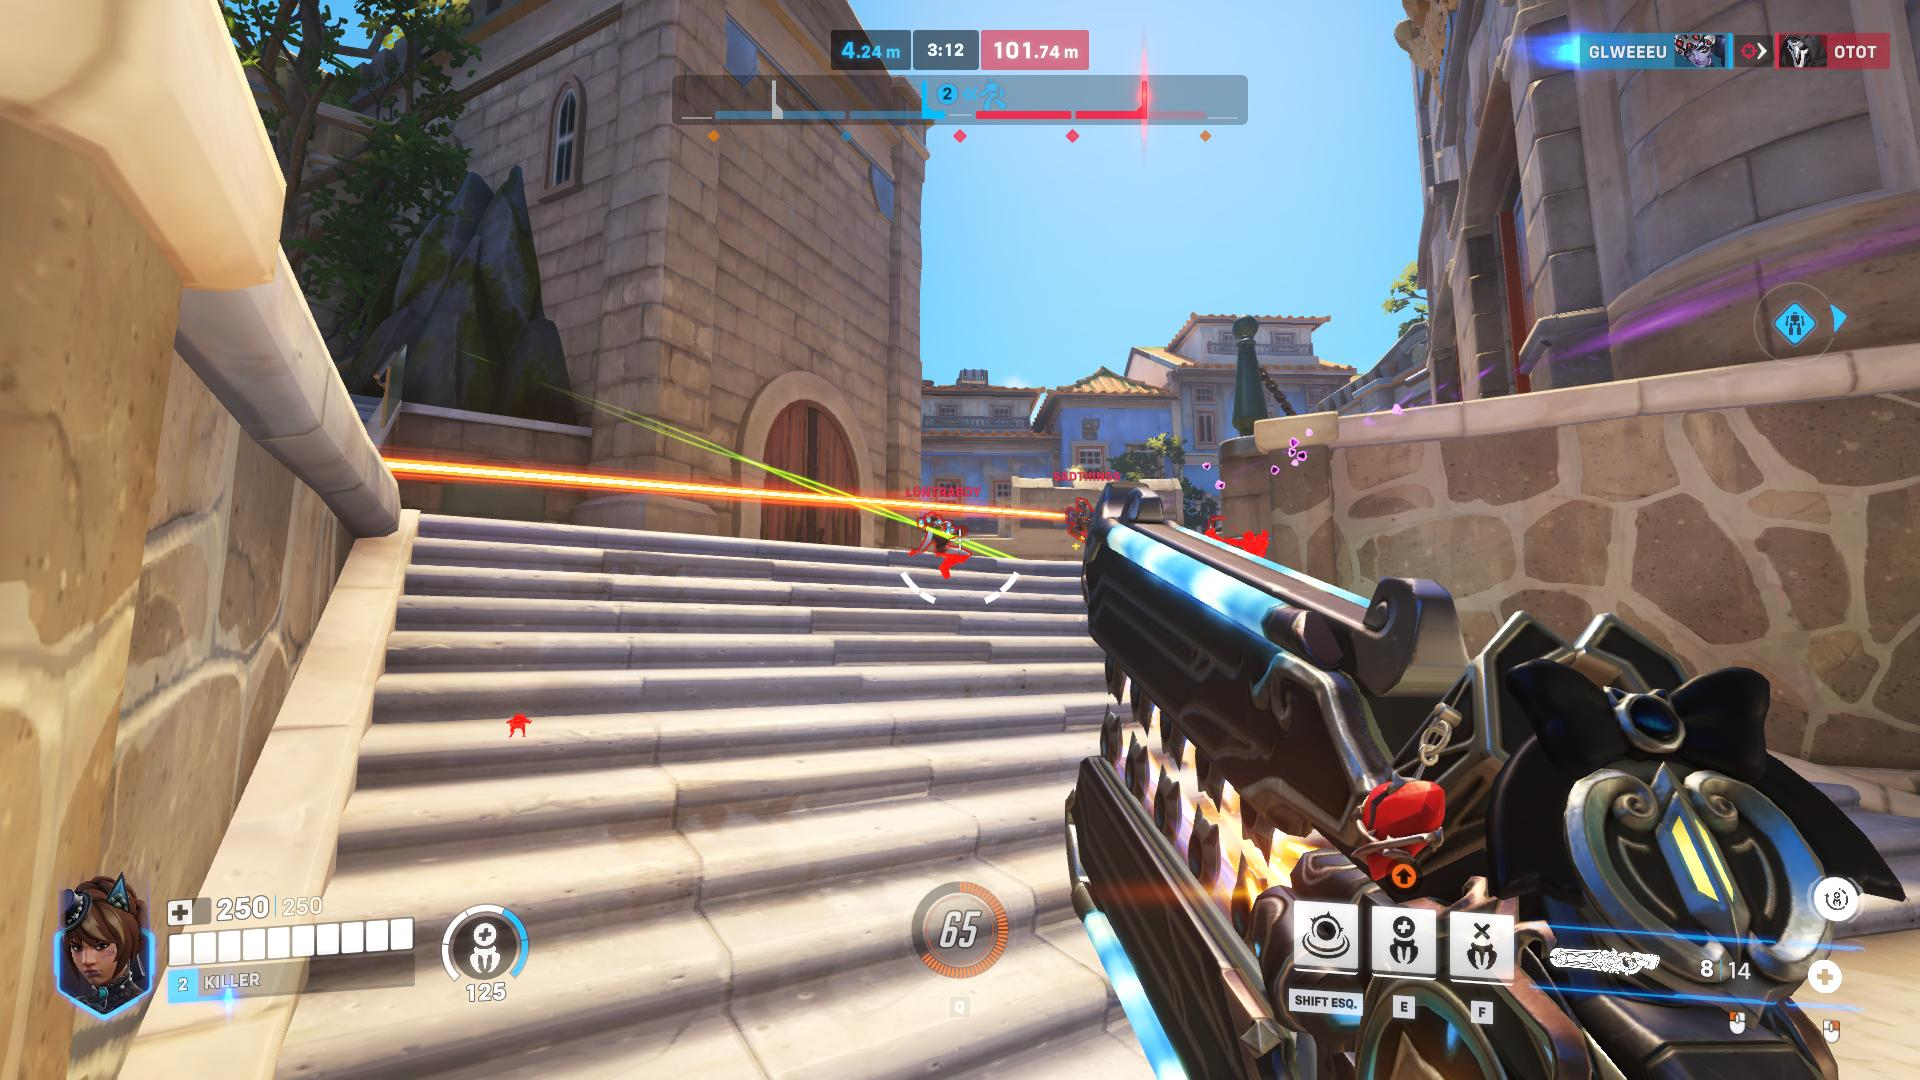enemy: (922, 514, 972, 555), (1069, 497, 1095, 543)
